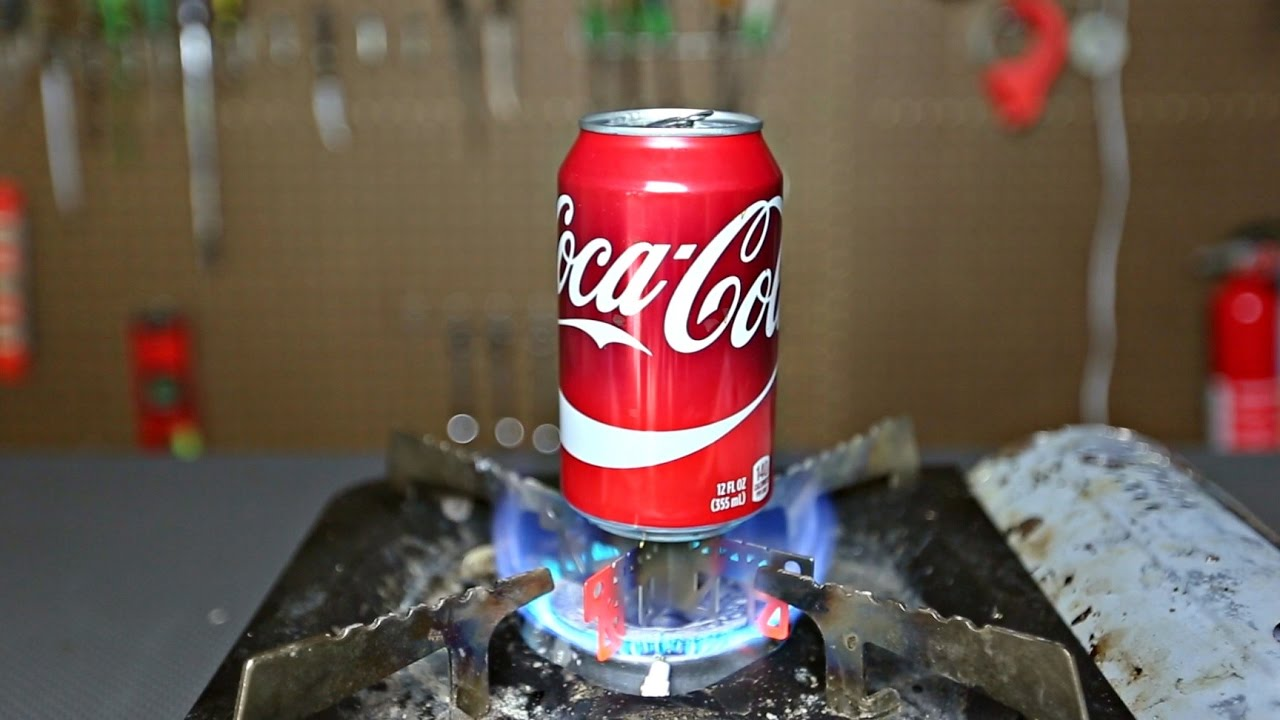can: (547, 101, 790, 548)
